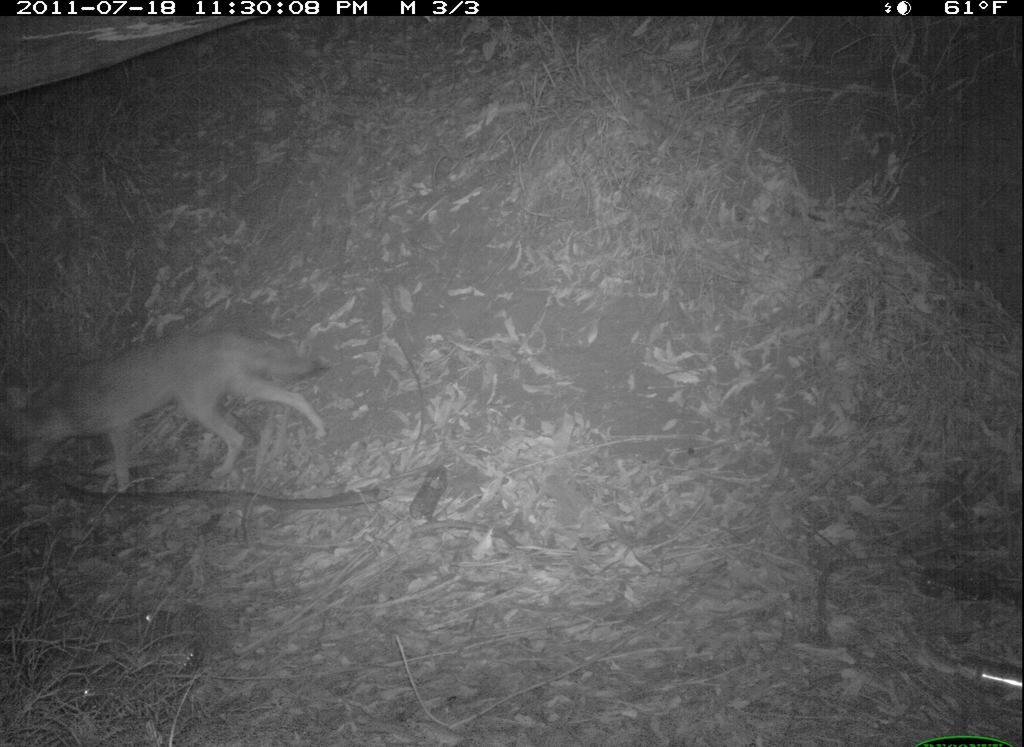coyote: (7, 322, 335, 502)
